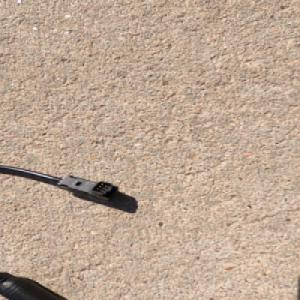Wire: (0, 163, 120, 299)
